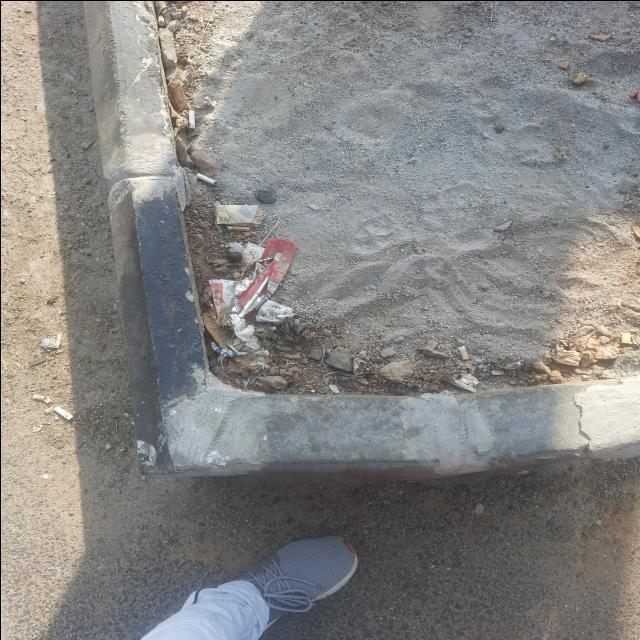Background: (2, 0, 637, 640), (155, 0, 640, 395)
Cig_bud: (53, 405, 72, 419), (195, 172, 215, 184), (32, 392, 50, 402), (457, 345, 468, 360), (188, 109, 195, 128), (43, 405, 53, 414)
Plastic_wraper: (233, 238, 297, 318), (210, 341, 238, 355)
Tetrapack: (620, 331, 630, 342)
